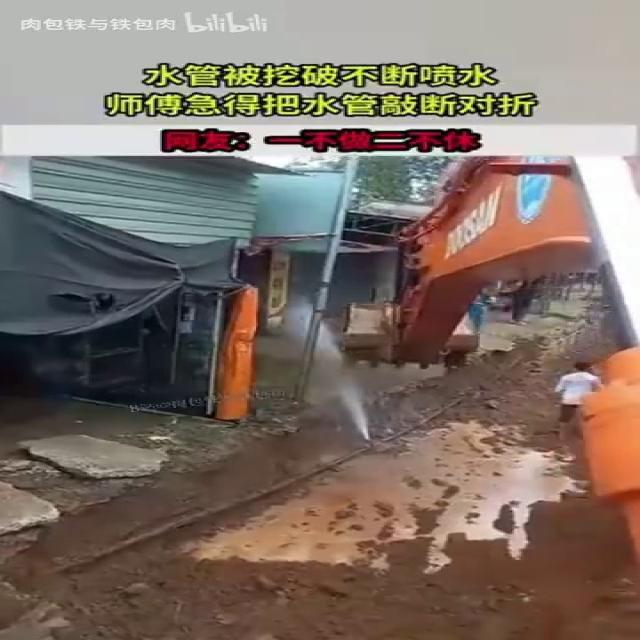leak: (287, 299, 375, 443)
